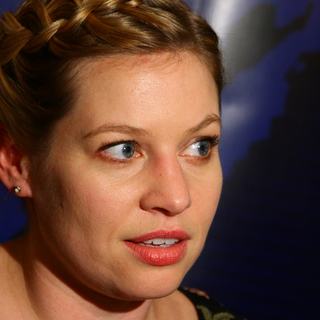eye: (92, 135, 149, 169), (175, 132, 221, 166)
